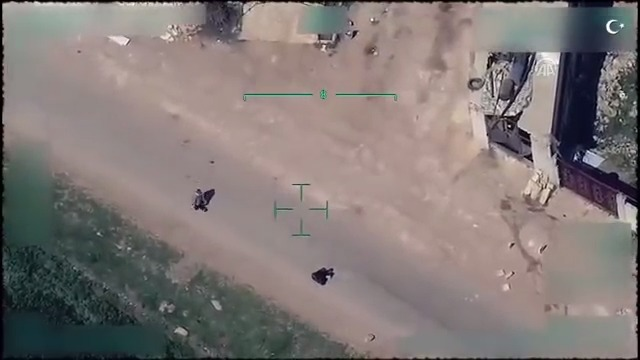insan: (187, 184, 214, 212)
